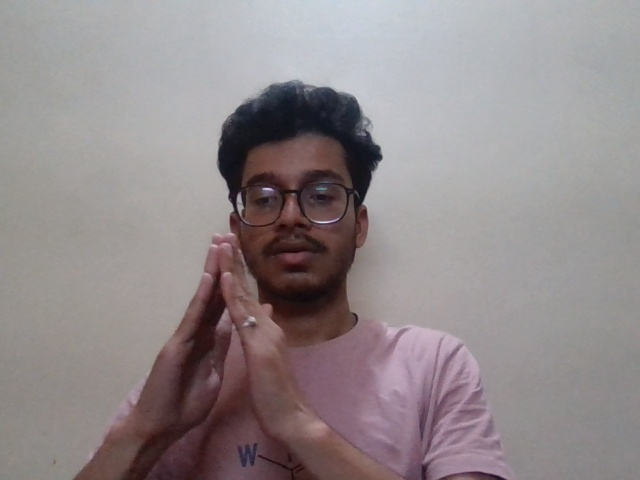home: (146, 232, 325, 445)
